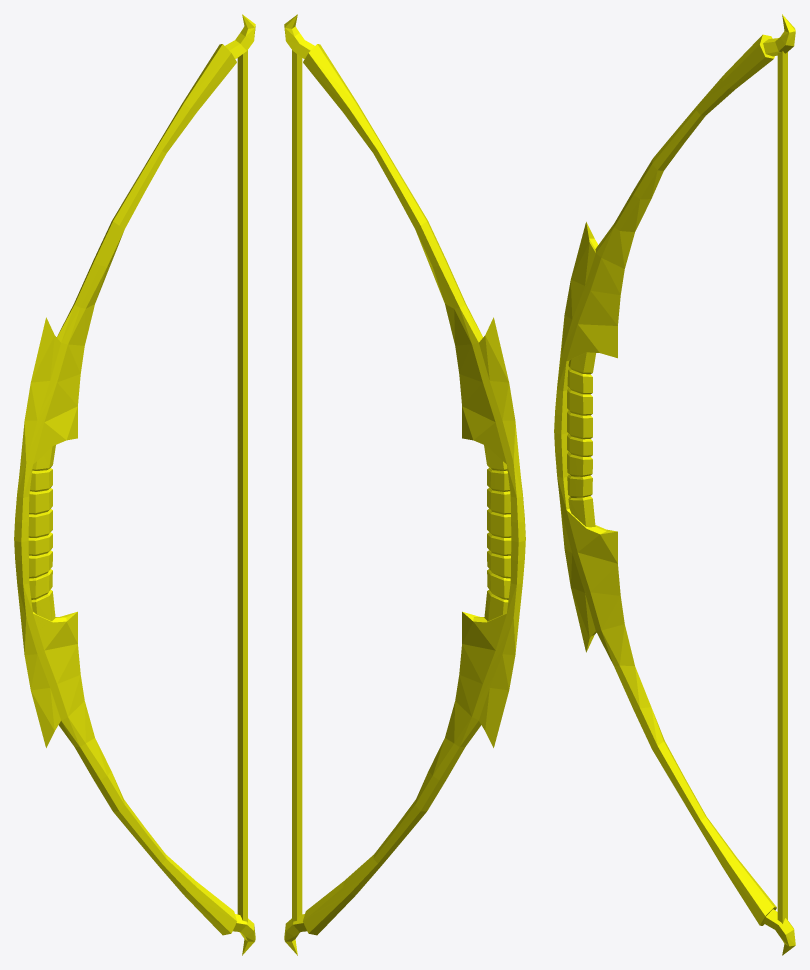
The model's file is _bow_2.glb.
3 renders of one model, left to right at view 1: azimuth 30°, elevation 25°; view 2: azimuth 150°, elevation 25°; view 3: azimuth 330°, elevation 25°, orthographic.
Parts seen in each view (by area): view 1: bow_2; view 2: bow_2; view 3: bow_2.
Boxes of the visible parts, bbox=[...] form: bow_2: bbox=[14, 14, 255, 955]; bow_2: bbox=[284, 14, 525, 955]; bow_2: bbox=[554, 14, 795, 955].
Bounding box in the file's own units: 0.2457 × 0.9149 × 0.0207.
1 material, 1 textured.
